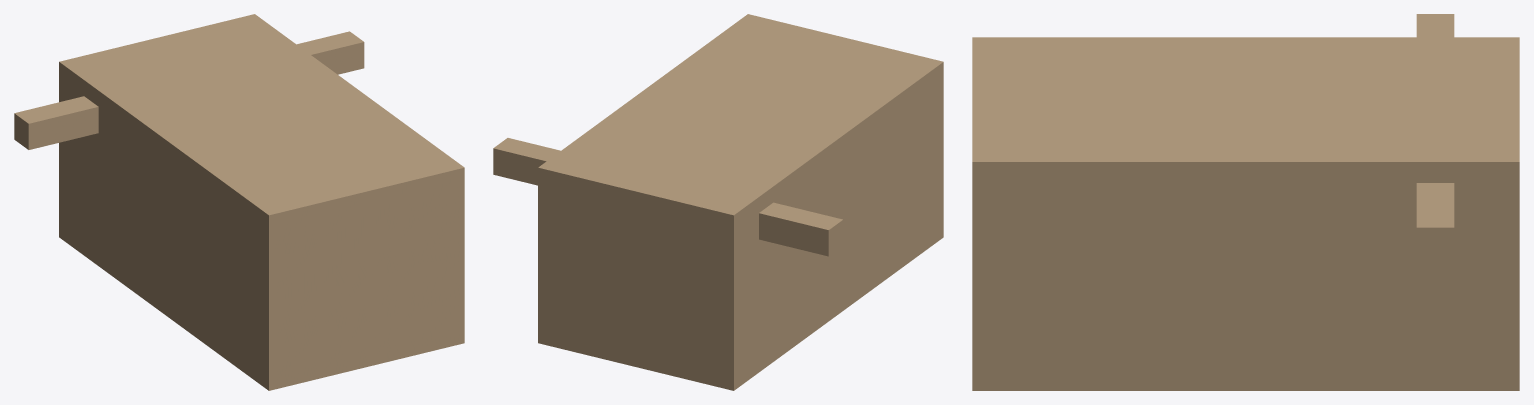
The model's file is ballista.glb.
3 views of the same model, side by side, from view 1: azimuth 30°, elevation 25°; view 2: azimuth 150°, elevation 25°; view 3: azimuth 270°, elevation 25° (orthographic). The views are drawn at different scales.
Parts seen in each view (by area): view 1: COL_ballista, ballista_arms; view 2: COL_ballista, ballista_arms; view 3: COL_ballista, ballista_arms.
Boxes of the visible parts, left/top/right/bottom form: COL_ballista: left=59, top=14, right=464, bottom=390; ballista_arms: left=14, top=31, right=364, bottom=149; COL_ballista: left=538, top=14, right=943, bottom=390; ballista_arms: left=493, top=138, right=843, bottom=256; COL_ballista: left=972, top=37, right=1519, bottom=390; ballista_arms: left=1416, top=14, right=1454, bottom=261.
Size of the model in its own units: 2.4 by 1.2 by 2.6.
